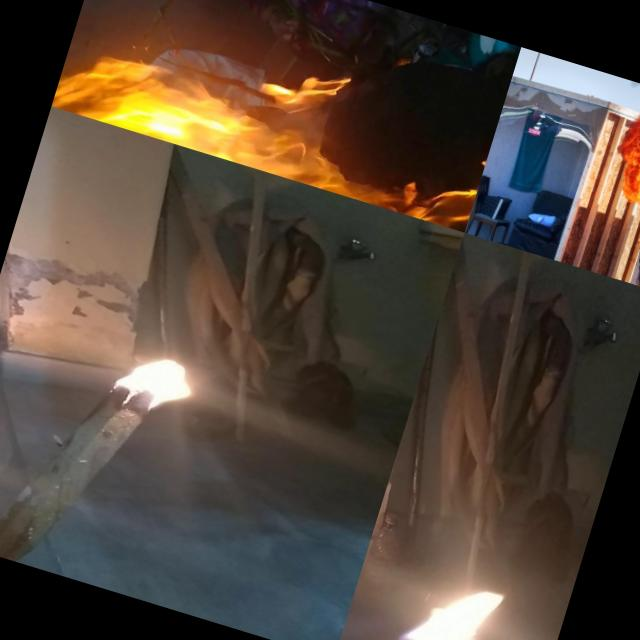fire: (51, 0, 261, 152), (368, 537, 515, 640), (98, 332, 213, 432), (586, 84, 640, 293)
